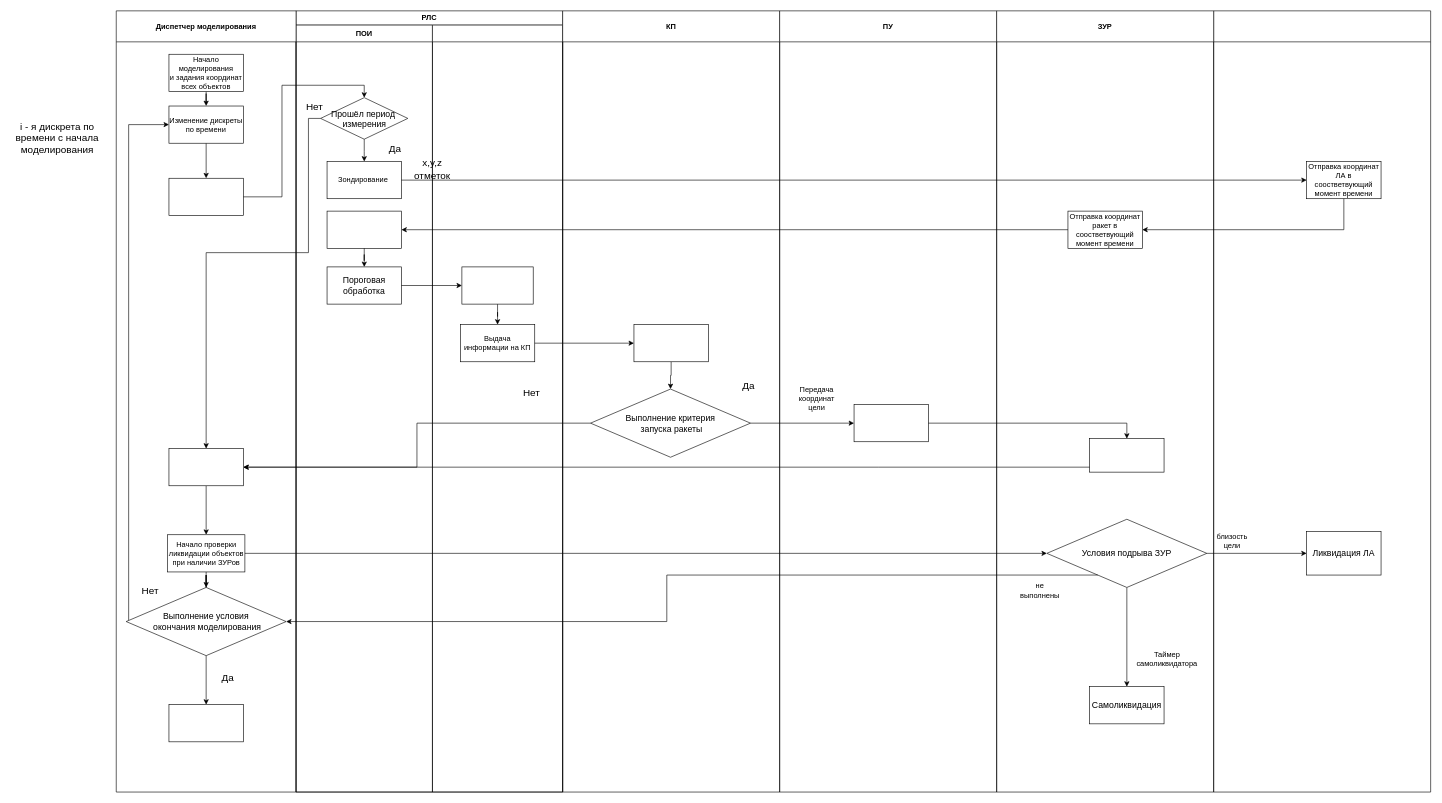
The diagram is 1442 pixels wide and 803 high, and some of its shapes have lost their labels. Here are the shapes that lost their labels. From the top down, the box of each, then its label:
(168, 178, 243, 215): Моделирование работы ЗРС
(326, 210, 401, 248): Получить сигнал с направления
(461, 266, 533, 304): Завязка траекторий
(633, 324, 708, 362): Совмещение траекторий от всех РЛС
(432, 24, 563, 792): ВОИ
(1213, 10, 1431, 792): ЛА
(853, 404, 928, 442): Пуск ракеты
(168, 448, 243, 486): Изименение координат объектов
(1089, 438, 1164, 472): Расчёт траектории полёта
(168, 704, 243, 742): Сохранение результатов
